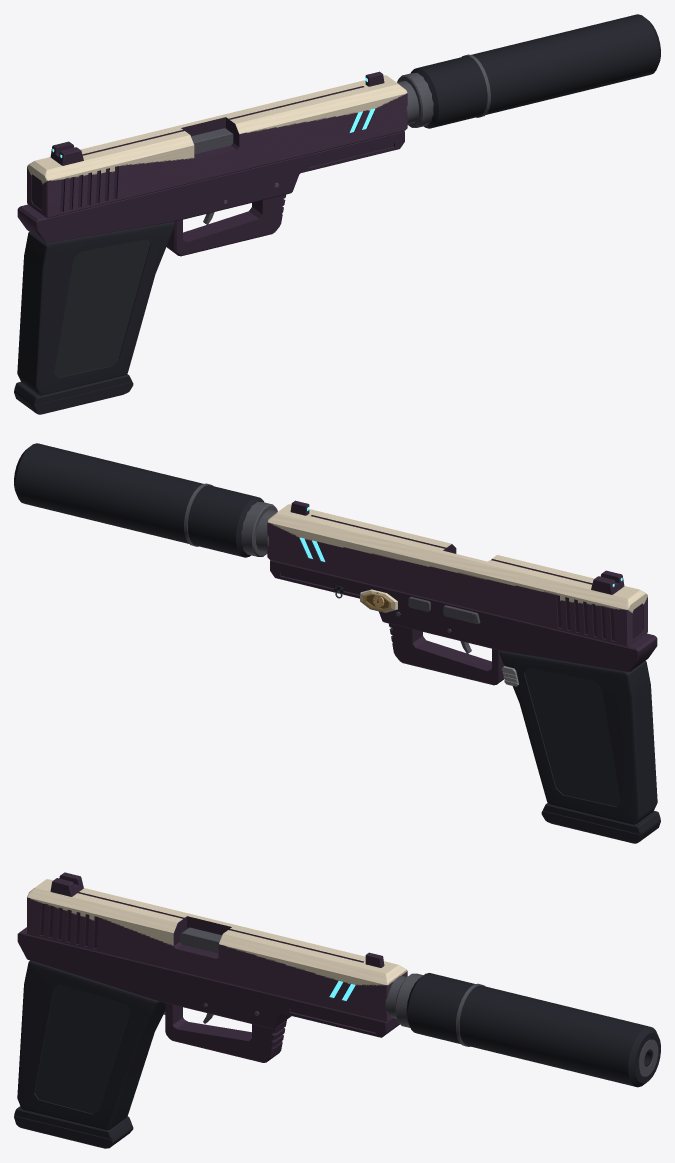
The model's file is Ghost_Sundial_v01.fbx.
The picture shows the model from 3 angles, top to bottom: view 1: azimuth 30°, elevation 25°; view 2: azimuth 150°, elevation 25°; view 3: azimuth 330°, elevation 25°; orthographic projection.
Parts seen in each view (by area): view 1: Ghost_Slide, Ghost_Grip, Ghost_Suppressor, Ghost_Frame, Ghost_Mag; view 2: Ghost_Slide, Ghost_Grip, Ghost_Suppressor, Ghost_Frame, Ghost_Mag; view 3: Ghost_Slide, Ghost_Grip, Ghost_Suppressor, Ghost_Frame, Ghost_Mag.
Part boxes in pixels (bbox=[...]): Ghost_Slide: bbox=[27, 71, 407, 218]; Ghost_Grip: bbox=[17, 221, 174, 395]; Ghost_Suppressor: bbox=[191, 14, 660, 154]; Ghost_Frame: bbox=[17, 131, 404, 256]; Ghost_Mag: bbox=[14, 374, 133, 414]; Ghost_Slide: bbox=[267, 500, 647, 647]; Ghost_Grip: bbox=[500, 650, 657, 824]; Ghost_Suppressor: bbox=[14, 443, 277, 557]; Ghost_Frame: bbox=[270, 560, 657, 685]; Ghost_Mag: bbox=[541, 803, 660, 843]; Ghost_Slide: bbox=[27, 872, 407, 1021]; Ghost_Grip: bbox=[17, 960, 165, 1129]; Ghost_Suppressor: bbox=[180, 927, 660, 1087]; Ghost_Frame: bbox=[17, 927, 399, 1062]; Ghost_Mag: bbox=[14, 1106, 133, 1148].
Bounding box in the file's own units: 232 × 89.19 × 20.42.
Materials: 14 (13 with a texture image).
